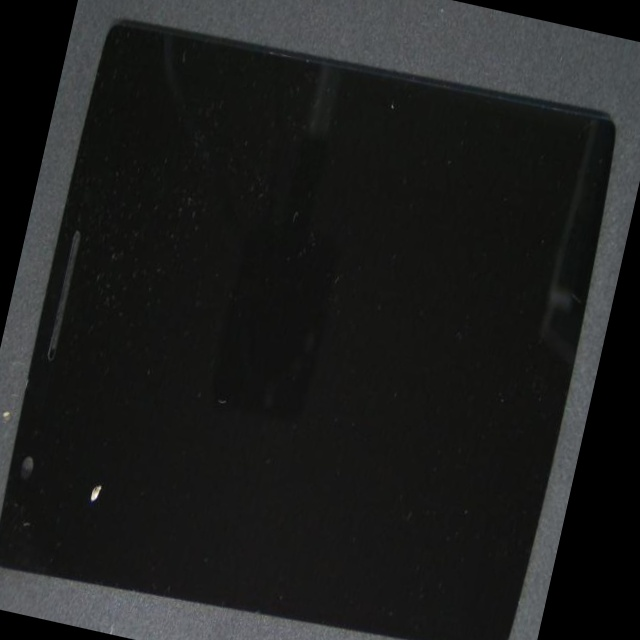stain: (10, 166, 216, 636)
